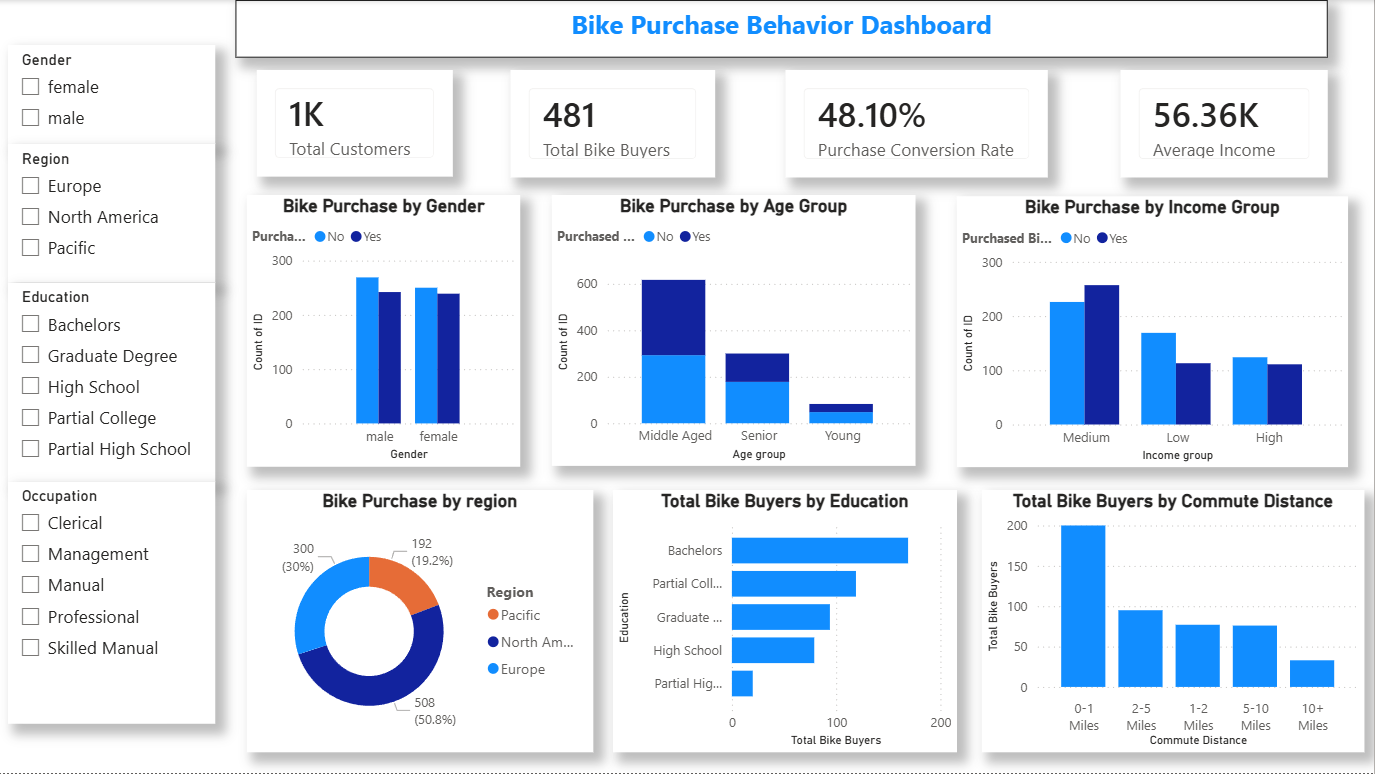

The page's visual inventory and layout, read from the dashboard file:
{"tool":"powerbi","page":{"name":"Page 1","canvas":[1280,720],"ordinal":0},"visuals":[{"type":"textbox","box":[220.9,0,1016.3,53.5],"z":0},{"type":"cardVisual","fields":{"Data":["Biker Data.Total Customers"]},"box":[241.2,65.4,182.6,99.2],"z":1000},{"type":"cardVisual","fields":{"Data":["Biker Data.Bike Buyers"]},"box":[476.7,65.1,190.7,100],"z":2000},{"type":"cardVisual","fields":{"Data":["Biker Data.Purchase Rate"]},"box":[732.6,65.1,244.2,100],"z":3000},{"type":"cardVisual","fields":{"Data":["Biker Data.Avg Income"]},"box":[1044.2,65.1,193,100],"z":4000},{"type":"clusteredColumnChart","title":"Bike Purchase by Gender","fields":{"Category":["Biker Data.Gender"],"Series":["Biker Data.Purchased Bike"],"Y":["CountNonNull(Biker Data.ID)"]},"box":[231.1,181.5,254.7,252.5],"z":5000},{"type":"columnChart","title":"Bike Purchase by Age Group","fields":{"Category":["Biker Data.Age group"],"Series":["Biker Data.Purchased Bike"],"Y":["CountNonNull(Biker Data.ID)"]},"box":[515.1,181.4,338.4,252.3],"z":6000},{"type":"clusteredColumnChart","title":"Bike Purchase by Income Group","fields":{"Y":["CountNonNull(Biker Data.ID)"],"Category":["Biker Data. Income group"],"Series":["Biker Data.Purchased Bike"]},"box":[891.9,182.6,364,252.3],"z":7000},{"type":"donutChart","title":"Bike Purchase by Region","fields":{"Category":["Biker Data.Region"],"Y":["CountNonNull(Biker Data.Purchased Bike)"]},"box":[231.4,455.8,322.1,244.2],"z":7001},{"type":"barChart","fields":{"Category":["Biker Data.Education"],"Y":["Biker Data.Bike Buyers"]},"box":[572.1,455.8,319.8,244.2],"z":7002},{"type":"columnChart","fields":{"Category":["Biker Data.Commute Distance"],"Y":["Biker Data.Bike Buyers"]},"box":[915.1,455.8,340.7,244.2],"z":7003},{"type":"slicer","fields":{"Values":["Biker Data.Gender"]},"box":[9.6,42.4,192.9,91.6],"z":7004},{"type":"slicer","fields":{"Values":["Biker Data.Region"]},"box":[9.6,134,192.9,128.6],"z":7005},{"type":"slicer","fields":{"Values":["Biker Data.Education"]},"box":[9.6,262.6,192.9,184.7],"z":7006},{"type":"slicer","fields":{"Values":["Biker Data.Occupation"]},"box":[9.6,447.3,192.9,225.7],"z":7007}]}

Visuals, with their boxes in screenshot pixels (x1, y1, x2, y2), scaled from the page's 1280x720 canvas onto the 1375x774 screenshot:
textbox: box=[237, 0, 1329, 58]
cardVisual - Biker Data.Total Customers: box=[259, 70, 455, 177]
cardVisual - Biker Data.Bike Buyers: box=[512, 70, 717, 177]
cardVisual - Biker Data.Purchase Rate: box=[787, 70, 1049, 177]
cardVisual - Biker Data.Avg Income: box=[1122, 70, 1329, 177]
"Bike Purchase by Gender" clusteredColumnChart: box=[248, 195, 522, 467]
"Bike Purchase by Age Group" columnChart: box=[553, 195, 917, 466]
"Bike Purchase by Income Group" clusteredColumnChart: box=[958, 196, 1349, 468]
"Bike Purchase by Region" donutChart: box=[249, 490, 595, 752]
barChart - Biker Data.Education x Biker Data.Bike Buyers: box=[615, 490, 958, 752]
columnChart - Biker Data.Commute Distance x Biker Data.Bike Buyers: box=[983, 490, 1349, 752]
slicer - Biker Data.Gender: box=[10, 46, 218, 144]
slicer - Biker Data.Region: box=[10, 144, 218, 282]
slicer - Biker Data.Education: box=[10, 282, 218, 481]
slicer - Biker Data.Occupation: box=[10, 481, 218, 723]
